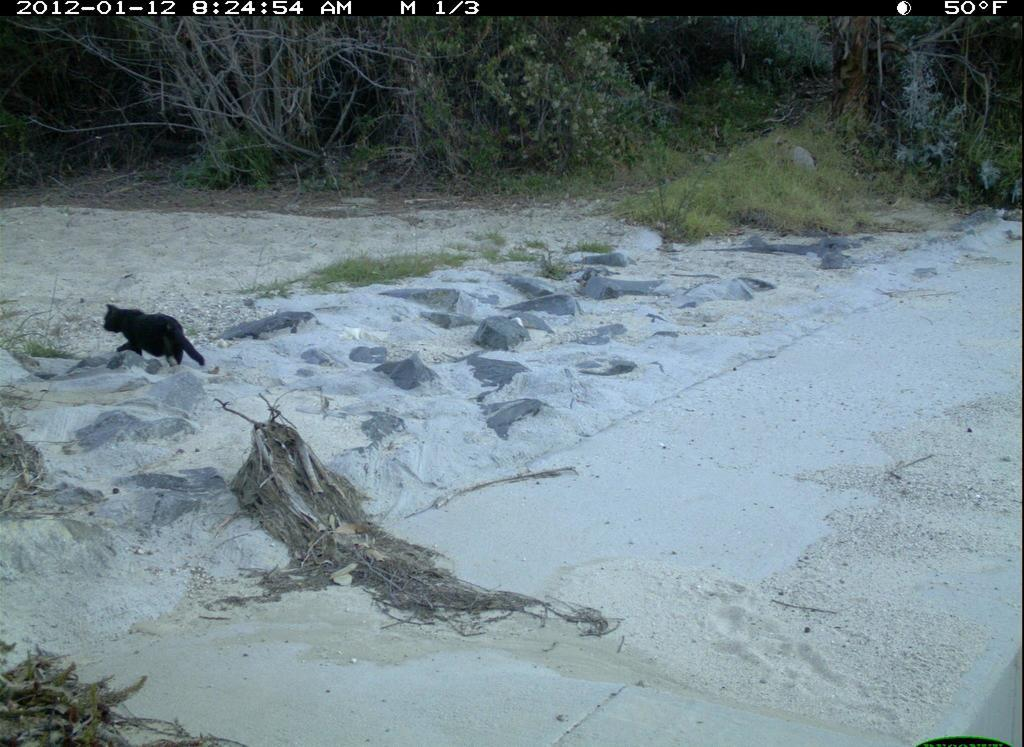cat: (93, 301, 214, 376)
